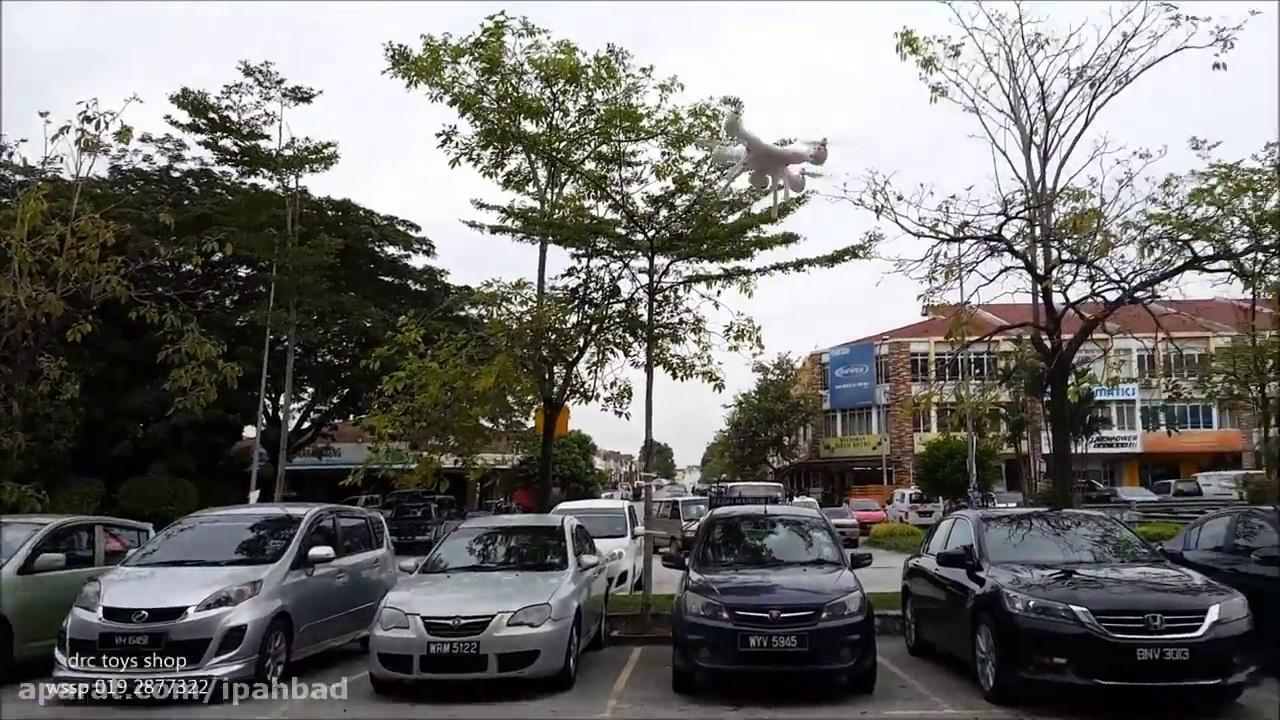drone: (702, 110, 836, 217)
